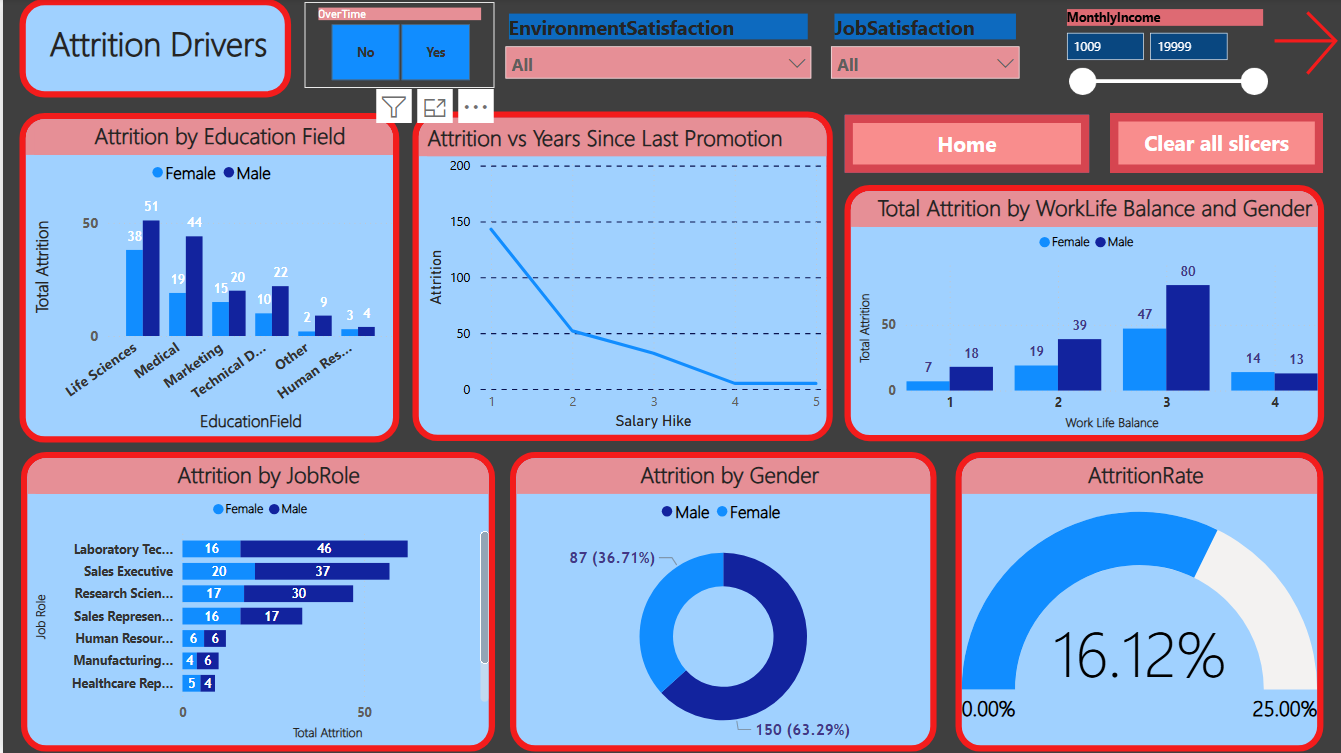

Layout of this report page (visuals, bound fields, positions):
{"tool":"powerbi","page":{"name":"Attrition Drivers","canvas":[1280,720],"ordinal":2},"visuals":[{"type":"shape","box":[1057.8,108.2,203.6,57.3],"z":0},{"type":"shape","box":[803.3,109.8,233.8,55.7],"z":1000},{"type":"donutChart","title":"Attrition by Gender","fields":{"Y":["Sum(HR-Employee-Attrition.AttritionTotal)"],"Category":["HR-Employee-Attrition.Gender"]},"box":[484.5,433.1,407.3,286.2],"z":2000},{"type":"barChart","title":"Attrition by JobRole","fields":{"Category":["HR-Employee-Attrition.JobRole"],"Y":["Sum(HR-Employee-Attrition.AttritionTotal)"],"Series":["HR-Employee-Attrition.Gender"]},"box":[16.7,433.1,452.7,286.2],"z":3000},{"type":"lineChart","title":"Attrition vs Years Since Last Promotion","fields":{"Y":["Sum(HR-Employee-Attrition.AttritionTotal)"],"Category":["HR-Employee-Attrition.JobLevel"]},"box":[390.7,107.5,401.3,315],"z":4000},{"type":"slicer","fields":{"Values":["HR-Employee-Attrition.JobSatisfaction"]},"box":[781.3,9.1,199.9,84.8],"z":5000},{"type":"gauge","fields":{"Y":["HR-Employee-Attrition.AttritionRate"]},"box":[910,433.1,351.3,286.2],"z":6000},{"type":"clusteredColumnChart","title":"Attrition by Education Field","fields":{"Category":["HR-Employee-Attrition.EducationField"],"Y":["Sum(HR-Employee-Attrition.AttritionTotal)"],"Series":["HR-Employee-Attrition.Gender"]},"box":[15.9,108.2,362.7,314.9],"z":7000},{"type":"actionButton","box":[803.3,109.8,233.8,55.7],"z":8000},{"type":"textbox","box":[15.9,0,259.3,93.8],"z":9000},{"type":"actionButton","box":[1057.8,108.2,203.6,57.3],"z":10000},{"type":"slicer","fields":{"Values":["HR-Employee-Attrition.MonthlyIncome"]},"box":[1002.4,4.5,213.5,93.9],"z":11000},{"type":"actionButton","box":[1205.7,0,74.8,84.3],"z":12000},{"type":"clusteredColumnChart","title":"Total Attrition by WorkLife Balance and Gender","fields":{"Category":["HR-Employee-Attrition.WorkLifeBalance"],"Y":["Sum(HR-Employee-Attrition.AttritionTotal)"],"Series":["HR-Employee-Attrition.Gender"]},"box":[803.3,178.1,458.1,245],"z":13000},{"type":"slicer","fields":{"Values":["HR-Employee-Attrition.OverTime"]},"box":[287.9,2.9,181.9,81.6],"z":14000},{"type":"slicer","fields":{"Values":["HR-Employee-Attrition.EnvironmentSatisfaction"]},"box":[469.4,9.1,311.9,84.8],"z":15000}]}

Visuals, with their boxes in screenshot pixels (x1, y1, x2, y2), scaled from the page's 1280x720 canvas onto the 1341x753 screenshot:
shape: locate(1108, 113, 1322, 173)
shape: locate(842, 115, 1087, 173)
"Attrition by Gender" donutChart: locate(508, 453, 934, 752)
"Attrition by JobRole" barChart: locate(17, 453, 492, 752)
"Attrition vs Years Since Last Promotion" lineChart: locate(409, 112, 830, 442)
slicer - HR-Employee-Attrition.JobSatisfaction: locate(819, 10, 1028, 98)
gauge - HR-Employee-Attrition.AttritionRate: locate(953, 453, 1321, 752)
"Attrition by Education Field" clusteredColumnChart: locate(17, 113, 397, 442)
actionButton: locate(842, 115, 1087, 173)
textbox: locate(17, 0, 288, 98)
actionButton: locate(1108, 113, 1322, 173)
slicer - HR-Employee-Attrition.MonthlyIncome: locate(1050, 5, 1274, 103)
actionButton: locate(1263, 0, 1340, 88)
"Total Attrition by WorkLife Balance and Gender" clusteredColumnChart: locate(842, 186, 1322, 442)
slicer - HR-Employee-Attrition.OverTime: locate(302, 3, 492, 88)
slicer - HR-Employee-Attrition.EnvironmentSatisfaction: locate(492, 10, 819, 98)
